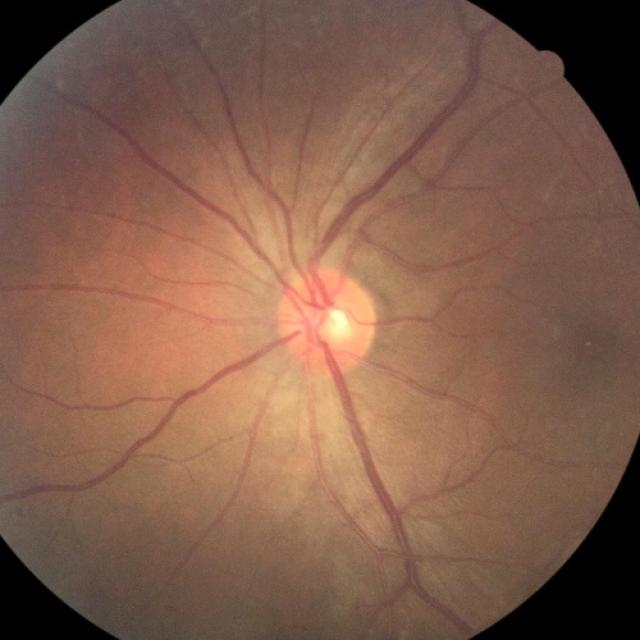OC: (320, 308, 350, 341)
OD: (281, 270, 378, 375)
